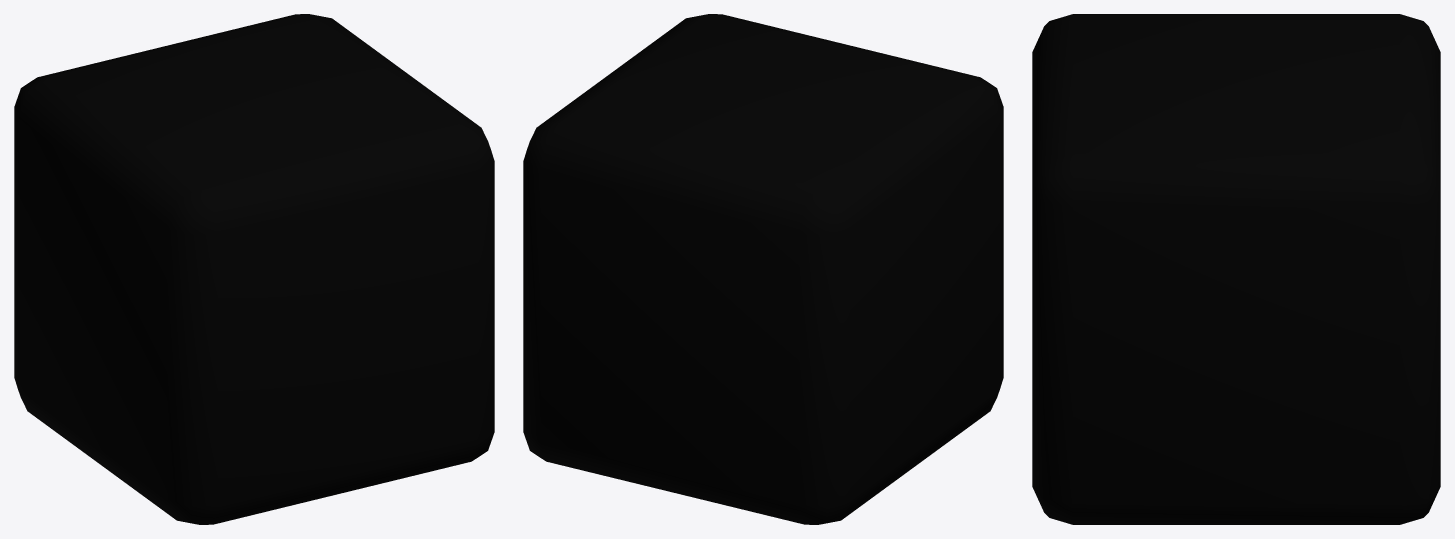
Rendered from DiceComission.gltf.
The picture shows the model from 3 angles, left to right: view 1: azimuth 30°, elevation 25°; view 2: azimuth 150°, elevation 25°; view 3: azimuth 270°, elevation 25°; orthographic projection. The views are drawn at different scales.
Visible parts, largest first — view 1: Dice; view 2: Dice; view 3: Dice.
Boxes of the visible parts, left/top/right/bottom form: Dice: left=14, top=14, right=494, bottom=524; Dice: left=523, top=14, right=1003, bottom=524; Dice: left=1032, top=14, right=1440, bottom=524.
Size of the model in its own units: 1 by 1 by 1.
